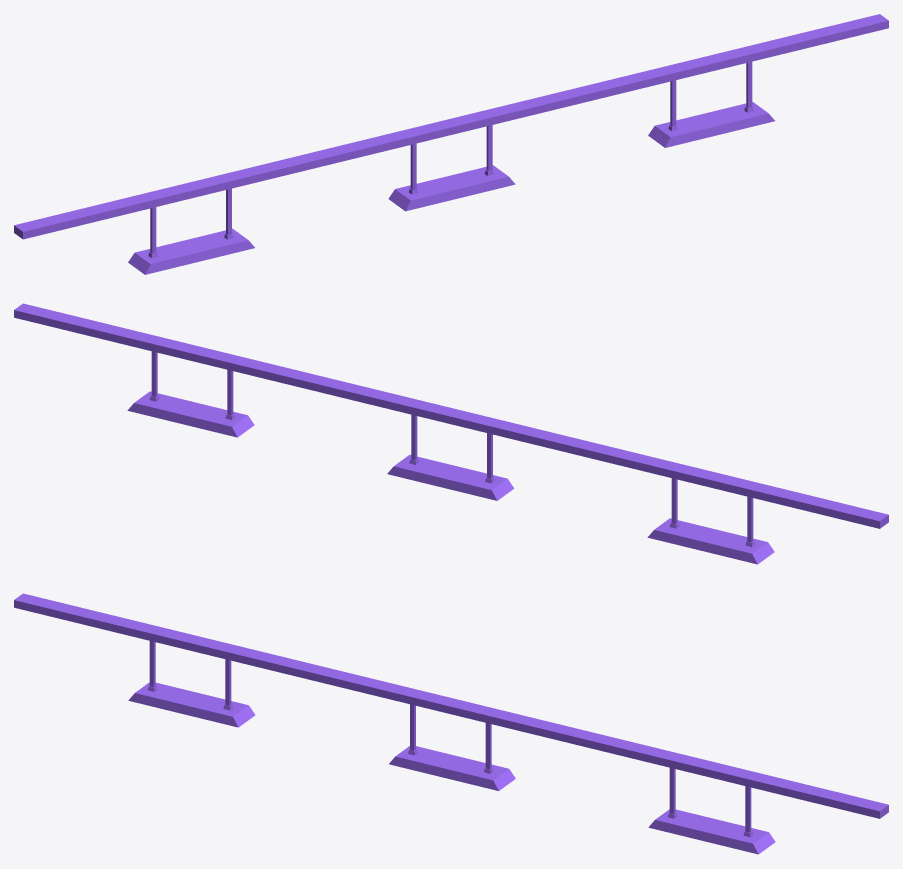
File: lights.fbx
3 renders of one model, top to bottom at view 1: azimuth 30°, elevation 25°; view 2: azimuth 150°, elevation 25°; view 3: azimuth 330°, elevation 25°, orthographic.
Parts seen in each view (by area): view 1: Cube.001, Cube.064, Cube.065, Cube.061; view 2: Cube.001, Cube.065, Cube.061, Cube.064; view 3: Cube.001, Cube.065, Cube.061, Cube.064.
Boxes of the visible parts, <box> form: Cube.001: <box>14,14,888,239</box>; Cube.064: <box>388,125,515,211</box>; Cube.065: <box>648,61,774,147</box>; Cube.061: <box>128,188,254,274</box>; Cube.001: <box>14,303,888,528</box>; Cube.065: <box>127,351,254,437</box>; Cube.061: <box>647,478,774,564</box>; Cube.064: <box>387,414,514,500</box>; Cube.001: <box>14,593,888,818</box>; Cube.065: <box>648,768,775,854</box>; Cube.061: <box>128,641,255,727</box>; Cube.064: <box>389,704,515,790</box>.
Bounding box in the file's own units: 5241 × 399 × 179.
